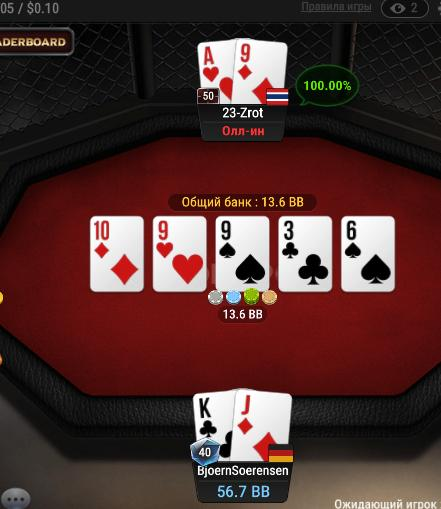10d: (91, 217, 143, 293)
3c: (279, 216, 333, 291)
6s: (341, 217, 394, 291)
9d: (233, 37, 287, 106)
9h: (154, 217, 207, 292)
9s: (217, 216, 269, 290)
Ah: (197, 39, 233, 105)
Jd: (233, 388, 292, 462)
Kc: (192, 390, 234, 459)
